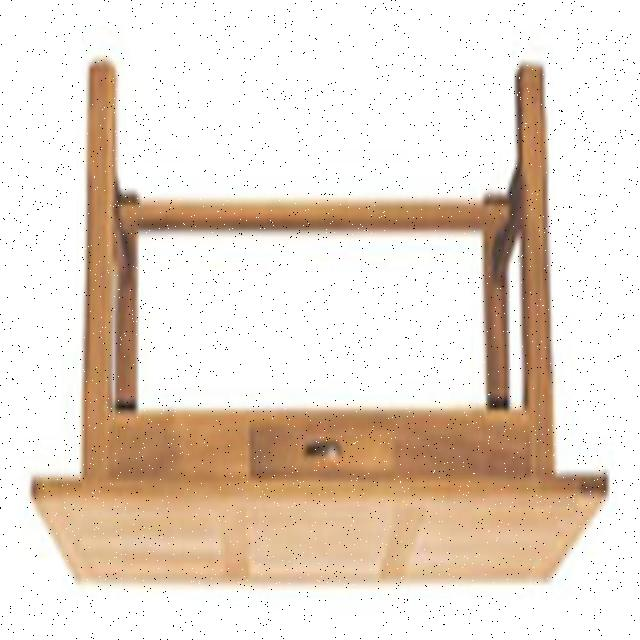mobile-phone: (19, 60, 607, 594)
